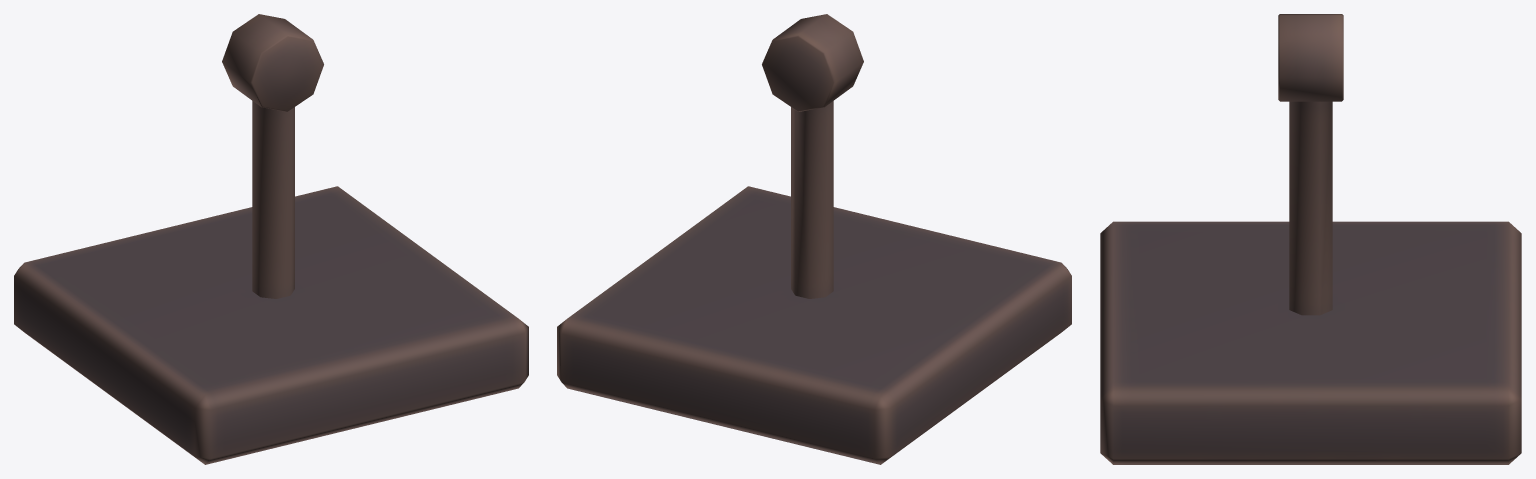
3 renders of one model, left to right at view 1: azimuth 30°, elevation 25°; view 2: azimuth 150°, elevation 25°; view 3: azimuth 270°, elevation 25°, orthographic. The views are drawn at different scales.
Visible parts, largest first — view 1: Cylinder.040_Baked; view 2: Cylinder.040_Baked; view 3: Cylinder.040_Baked.
Boxes of the visible parts, bbox=[...] form: Cylinder.040_Baked: bbox=[14, 14, 528, 464]; Cylinder.040_Baked: bbox=[557, 14, 1071, 464]; Cylinder.040_Baked: bbox=[1100, 14, 1521, 464].
Size of the model in its own units: 65.08 by 62.52 by 65.08.
1 material, 1 textured.
